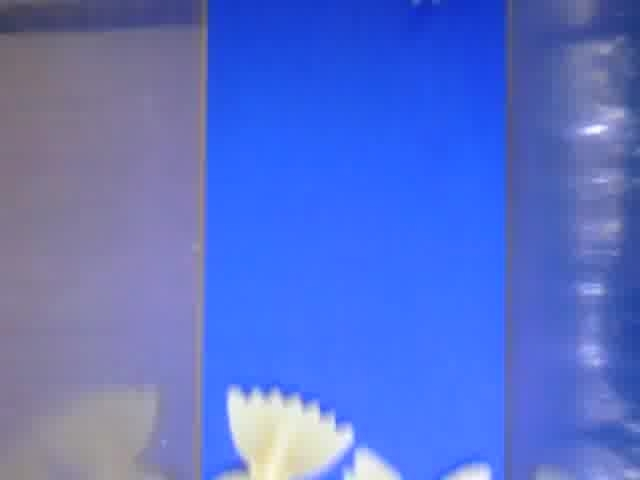farfalle: (217, 386, 355, 480)
